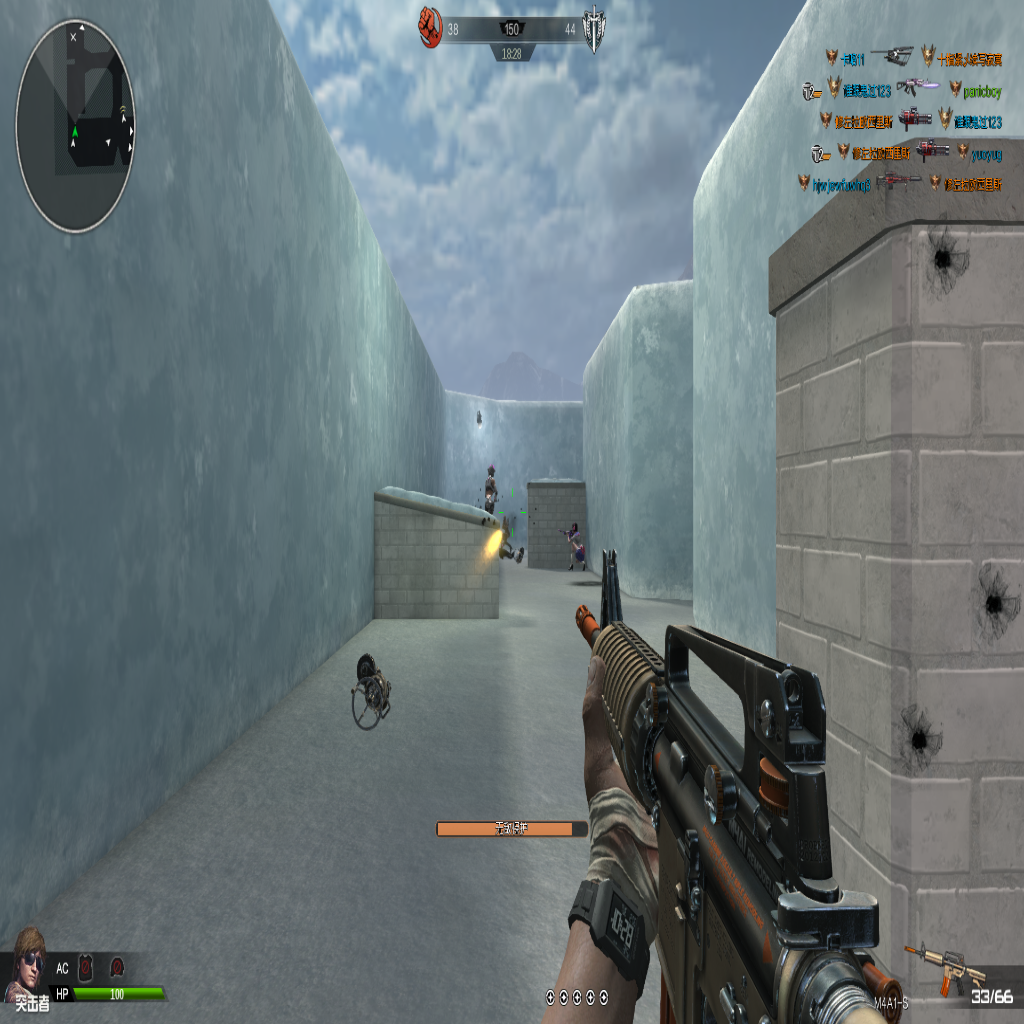tt: (483, 466, 498, 515)
